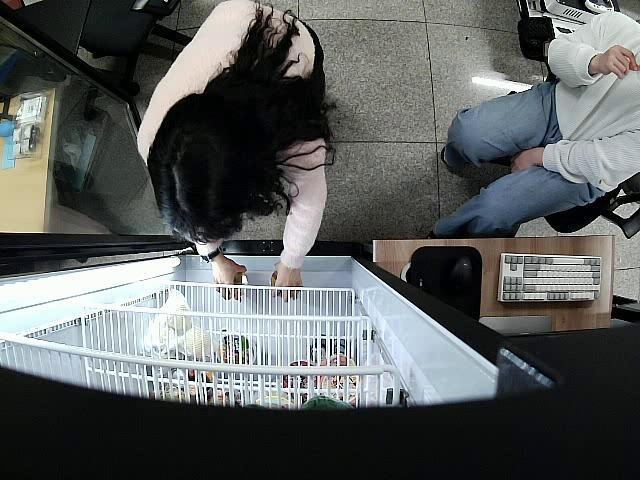04_chapagetti_S: (226, 271, 250, 298), (268, 271, 288, 290)
